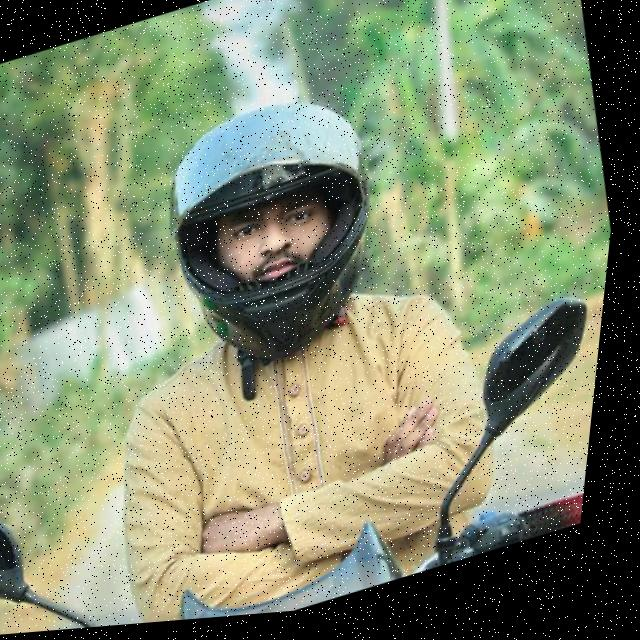helmet: (132, 74, 424, 401)
